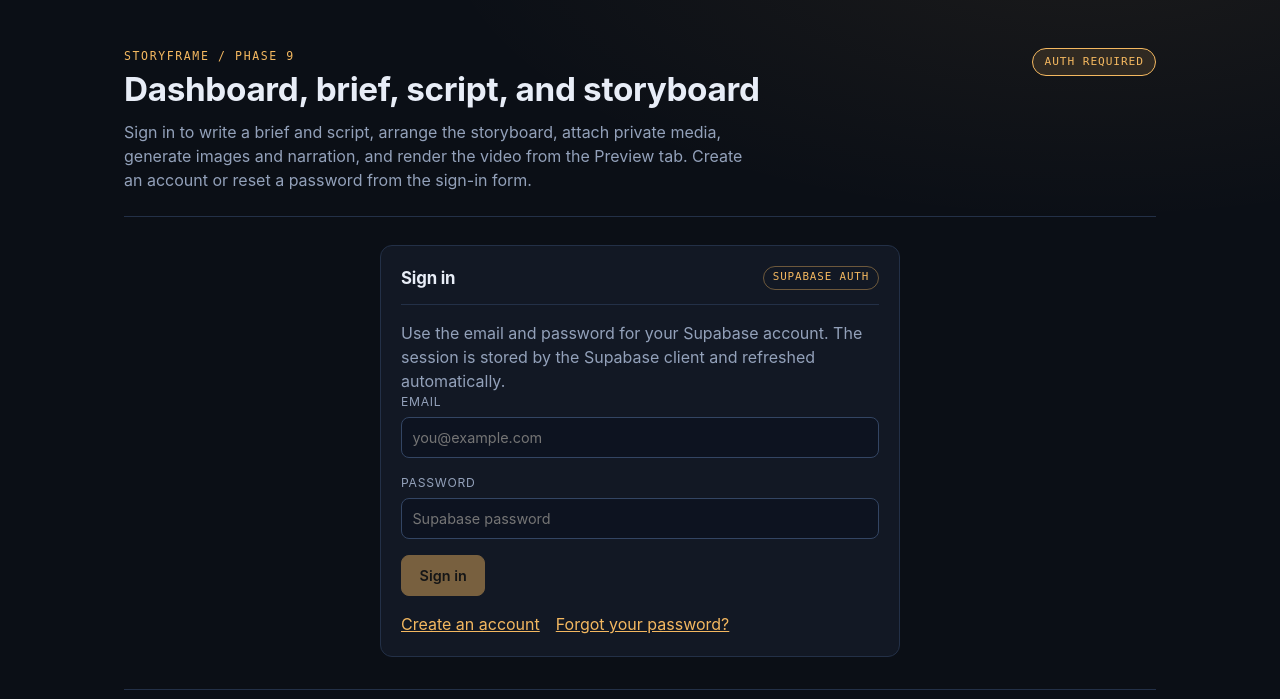
Test: Account flows › reports an existing account instead of promising an email that will not arrive
Expected: the heading "Sign in" is shown, [401,268,455,288]
Click the button "Create an account": click(470, 624) [401,612,540,636]
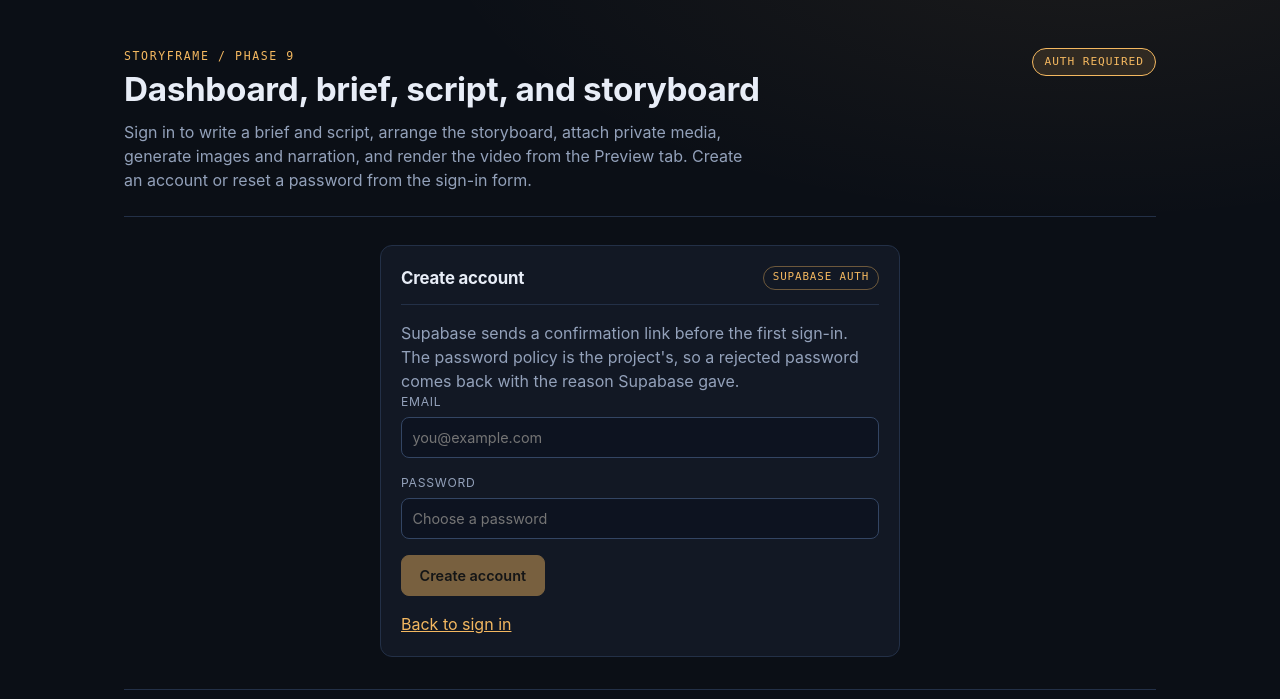
Result: the heading "Create account" is shown at [401,268,524,288]
In the field labelled "Email": (640, 438) [401,417,879,458], type "ada@example.com"
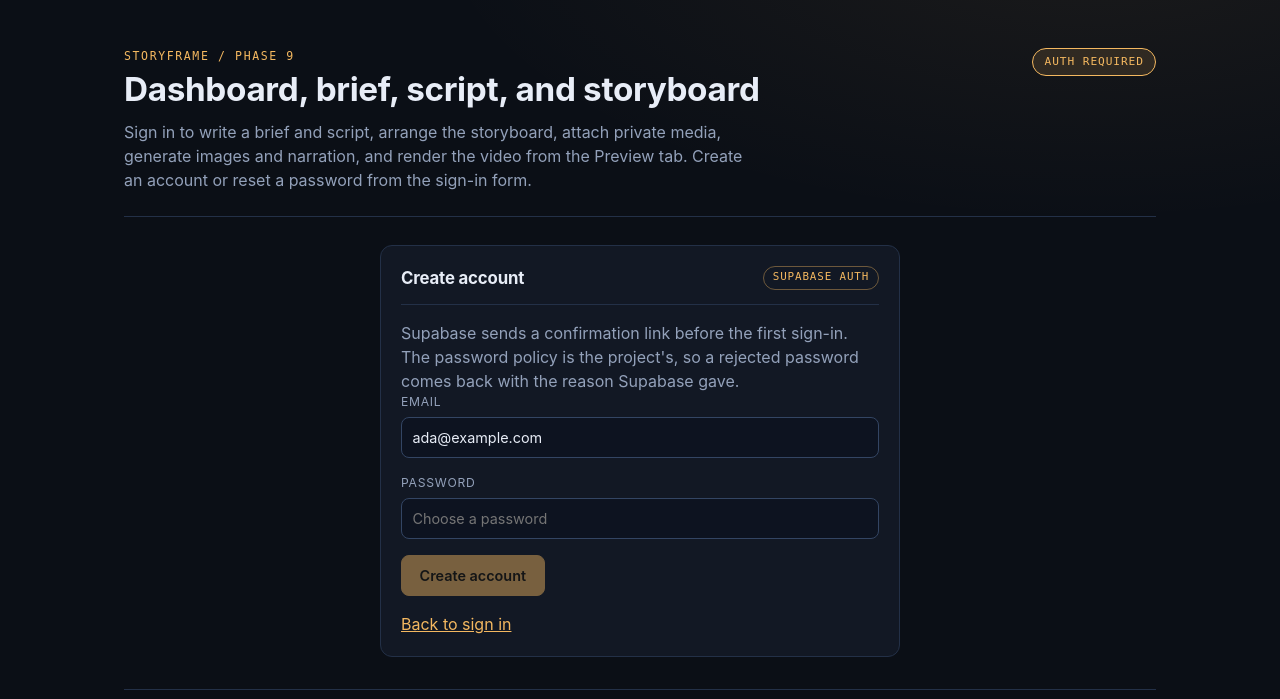
In the password field labelled "Password": (640, 518) [401,498,879,539], type "correct horse battery staple"
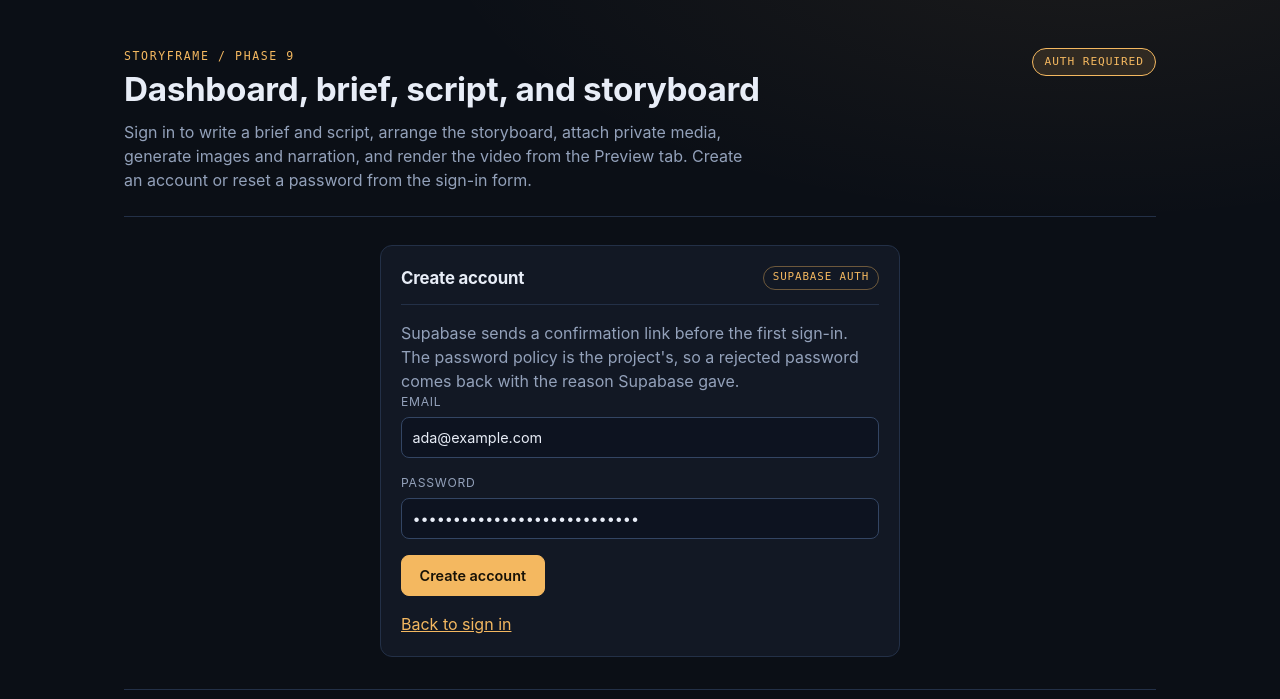
Click the button "Create account": click(473, 576) [401,555,545,596]
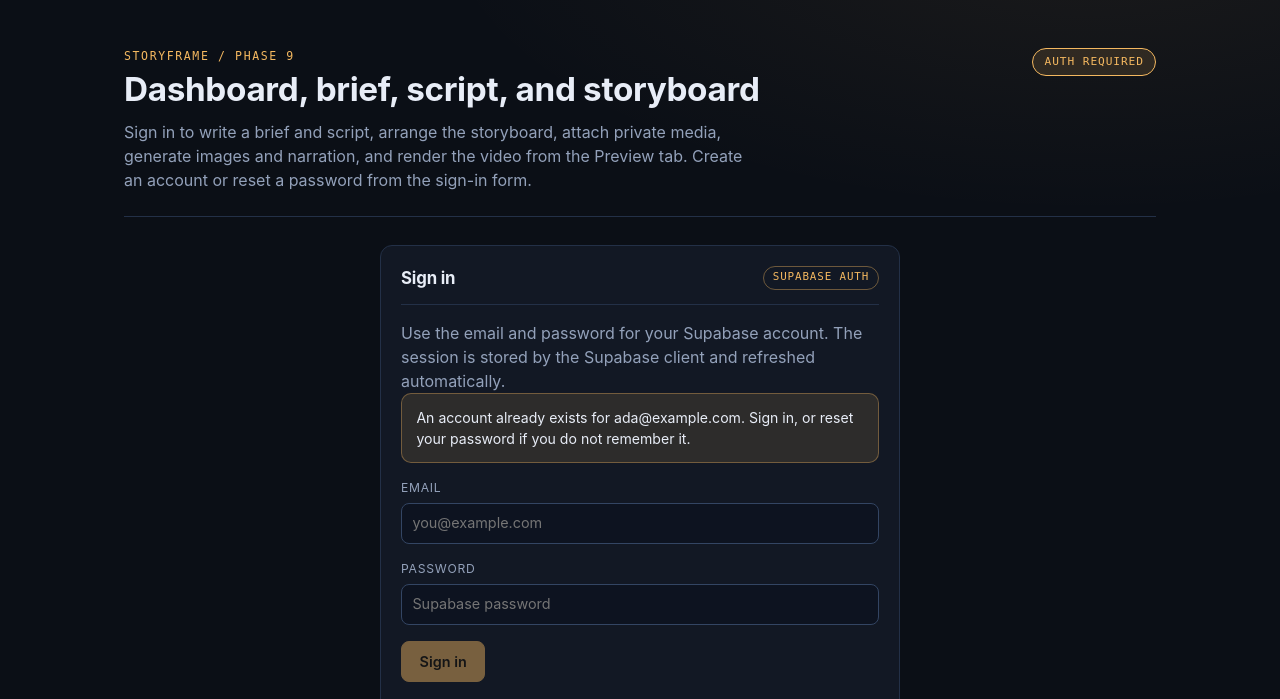
Result: the text "An account already exists for ada@example.com" is shown at [416,409,853,447]
Result: the text "confirmation link" is gone
Result: the heading "Sign in" is shown at [401,268,455,288]
